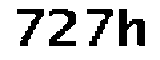2: (46, 4, 79, 53)
7: (12, 6, 46, 51), (81, 5, 115, 49)
h: (116, 6, 149, 48)
